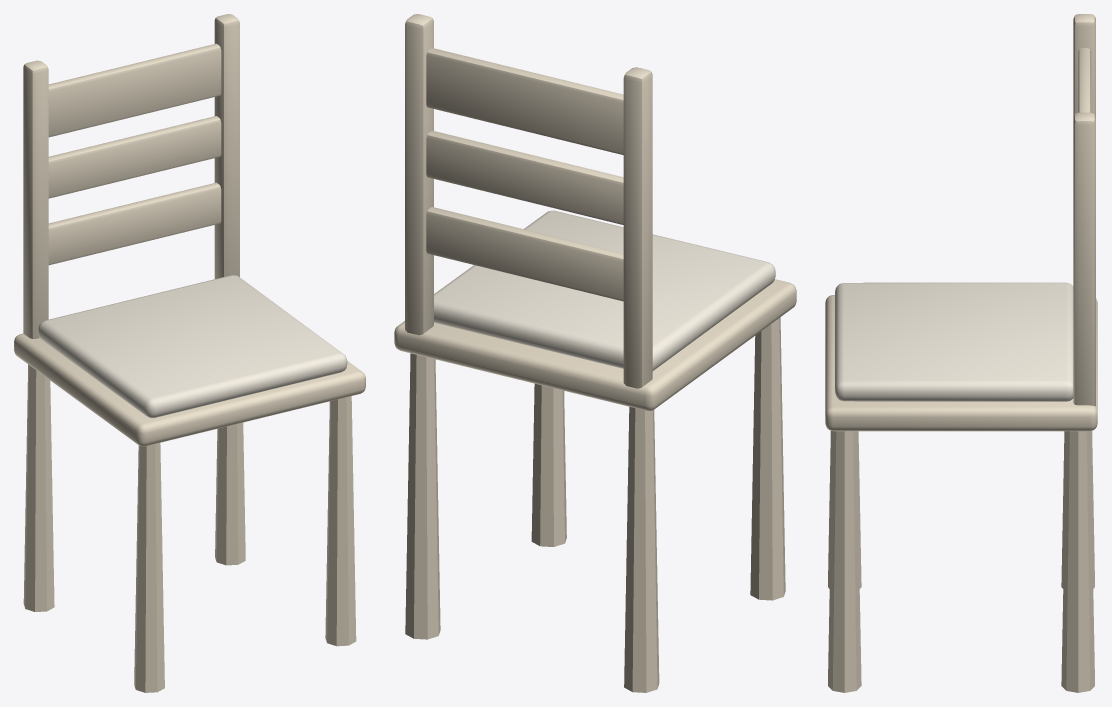
File: chair.glb
The picture shows the model from 3 angles, left to right: view 1: azimuth 30°, elevation 25°; view 2: azimuth 150°, elevation 25°; view 3: azimuth 270°, elevation 25°; orthographic projection. The views are drawn at different scales.
Parts seen in each view (by area): view 1: pad, seat, slat.002, slat, slat.001, post, leg.002, leg, leg.001, post.001, leg.003; view 2: pad, seat, slat.002, slat.001, slat, post, leg.001, leg.003, leg, post.001, leg.002; view 3: pad, seat, leg.002, leg.003, post.001, post, slat.002, leg, leg.001.
Part boxes in pixels (x1=…): pad: x1=38, y1=275, x2=347, y2=417; seat: x1=14, y1=333, x2=365, y2=446; slat.002: x1=48, y1=43, x2=221, y2=137; slat: x1=48, y1=182, x2=221, y2=265; slat.001: x1=48, y1=116, x2=221, y2=198; post: x1=23, y1=60, x2=48, y2=338; leg.002: x1=325, y1=396, x2=356, y2=646; leg: x1=134, y1=443, x2=164, y2=692; leg.001: x1=23, y1=364, x2=54, y2=611; post.001: x1=214, y1=14, x2=239, y2=278; leg.003: x1=215, y1=422, x2=245, y2=565; pad: x1=434, y1=210, x2=775, y2=370; seat: x1=394, y1=279, x2=796, y2=410; slat.002: x1=426, y1=48, x2=623, y2=154; slat.001: x1=426, y1=130, x2=623, y2=224; slat: x1=426, y1=207, x2=623, y2=301; post: x1=623, y1=67, x2=652, y2=388; leg.001: x1=624, y1=407, x2=659, y2=692; leg.003: x1=405, y1=353, x2=440, y2=639; leg: x1=750, y1=317, x2=785, y2=600; post.001: x1=405, y1=14, x2=433, y2=335; leg.002: x1=531, y1=383, x2=566, y2=546; pad: x1=835, y1=282, x2=1073, y2=401; seat: x1=825, y1=295, x2=1097, y2=431; leg.002: x1=828, y1=431, x2=861, y2=692; leg.003: x1=1061, y1=431, x2=1094, y2=692; post.001: x1=1073, y1=112, x2=1095, y2=406; post: x1=1073, y1=14, x2=1095, y2=116; slat.002: x1=1078, y1=48, x2=1091, y2=112; leg: x1=828, y1=430, x2=861, y2=588; leg.001: x1=1061, y1=430, x2=1094, y2=588.
Bounding box in the file's own units: 0.43 × 0.97 × 0.42.
